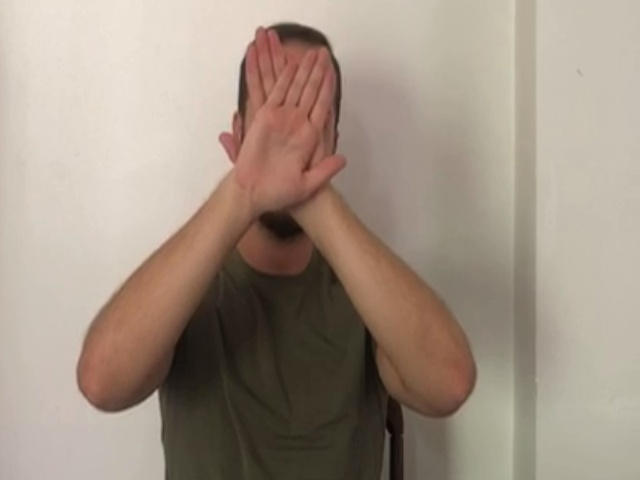Stemneto: (215, 24, 352, 218)
